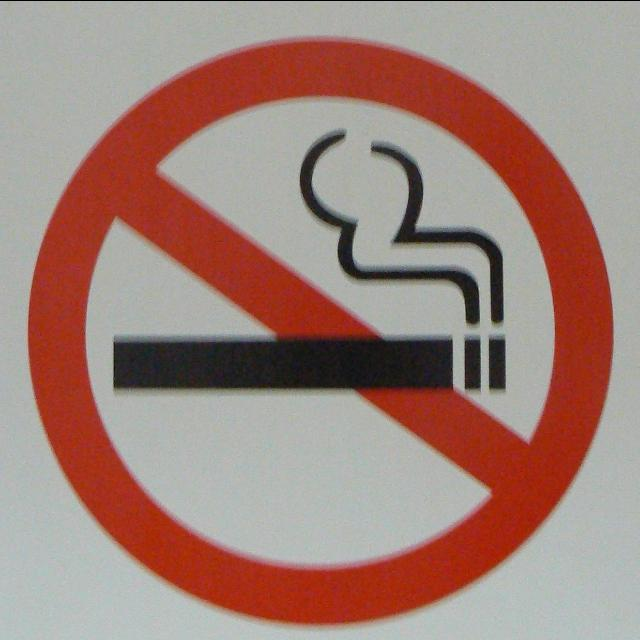cam hut thuoc: (29, 39, 613, 622)
